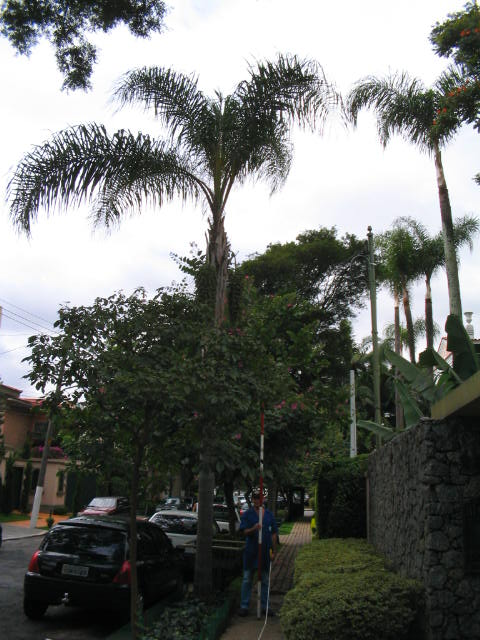stick: (244, 401, 274, 619)
